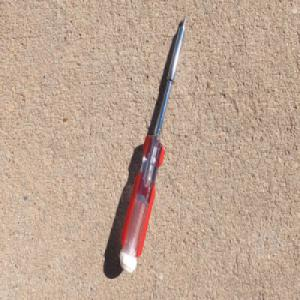Screwdriver: (118, 12, 188, 274)
